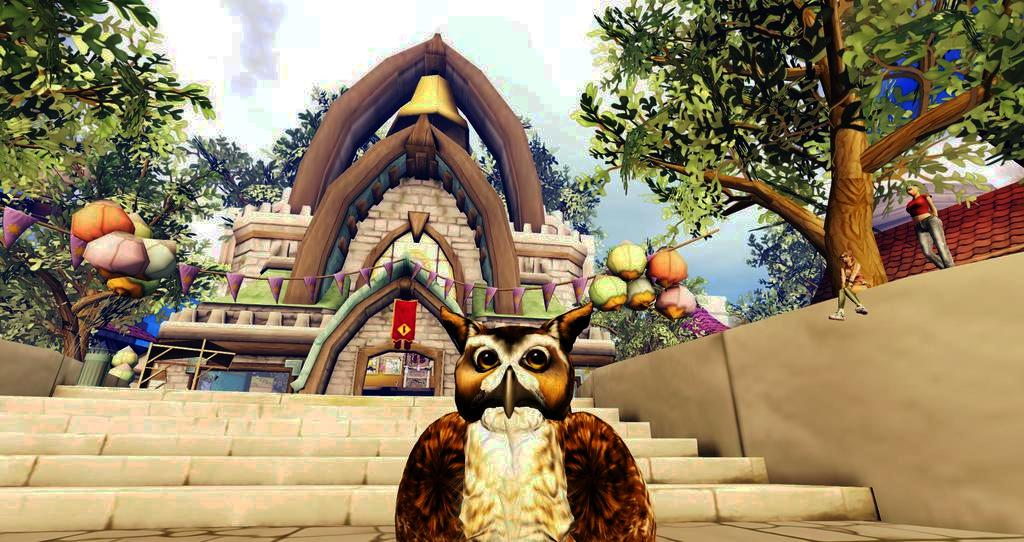Owl: (396, 306, 657, 542)
